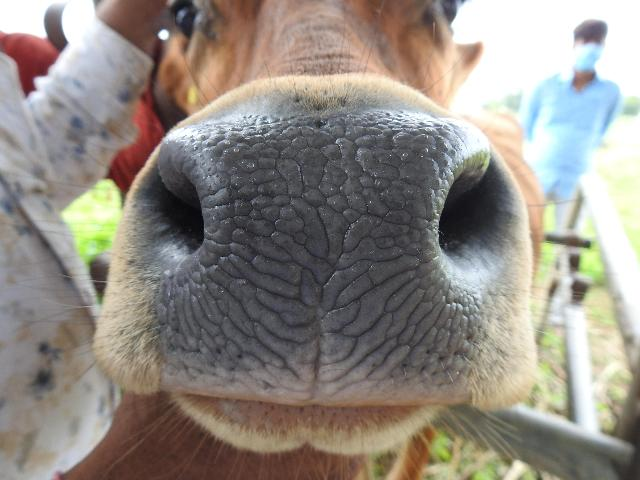Muzzle: (203, 126, 437, 384)
